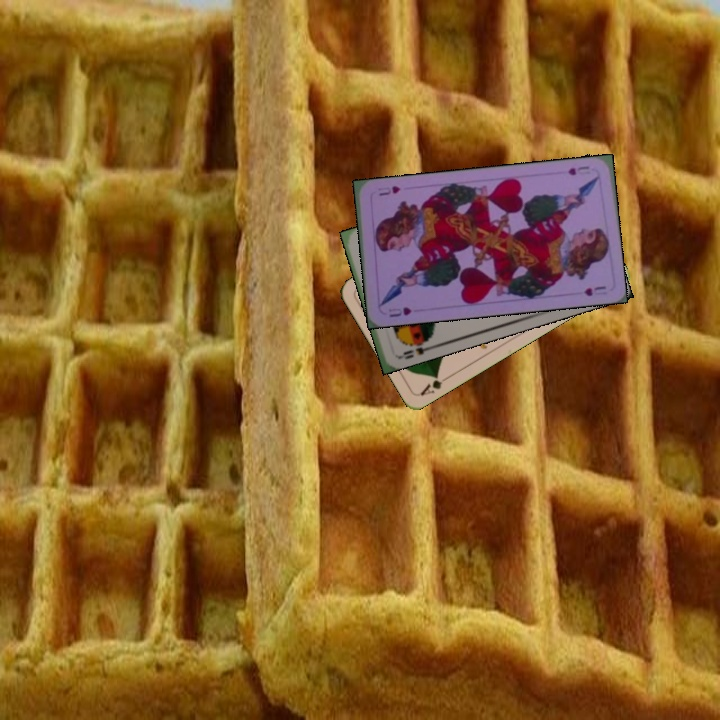GA: (417, 371, 453, 398)
HU: (384, 303, 414, 320), (564, 162, 592, 178)
SO: (393, 335, 434, 362)
